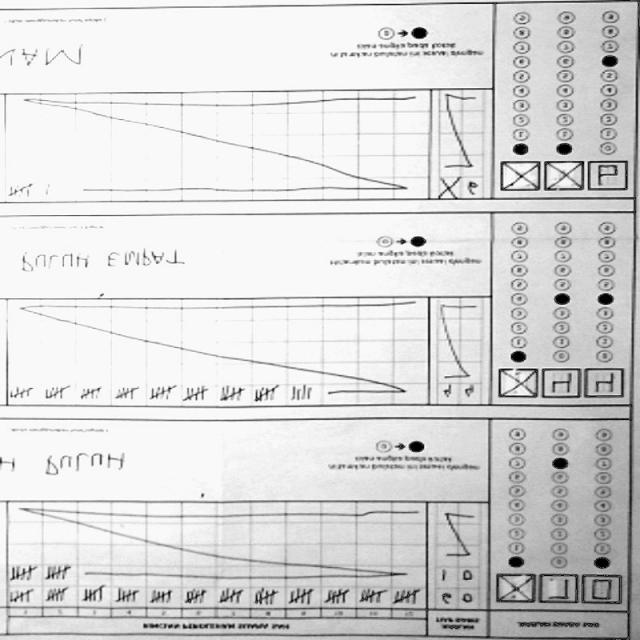Suara: (496, 159, 630, 196), (492, 366, 626, 402), (492, 570, 625, 606)
